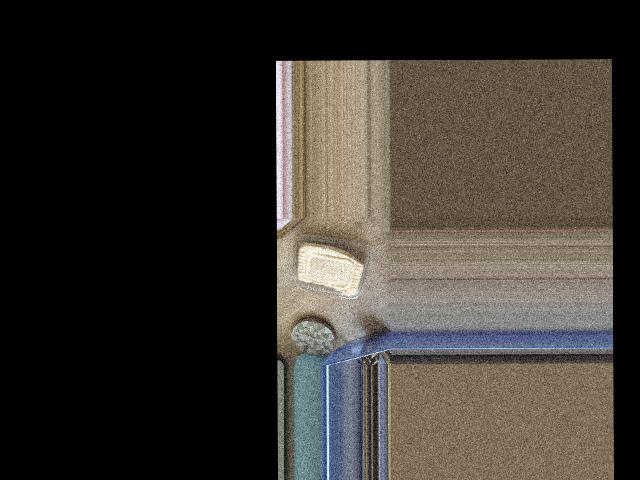cheese: (283, 216, 363, 304)
